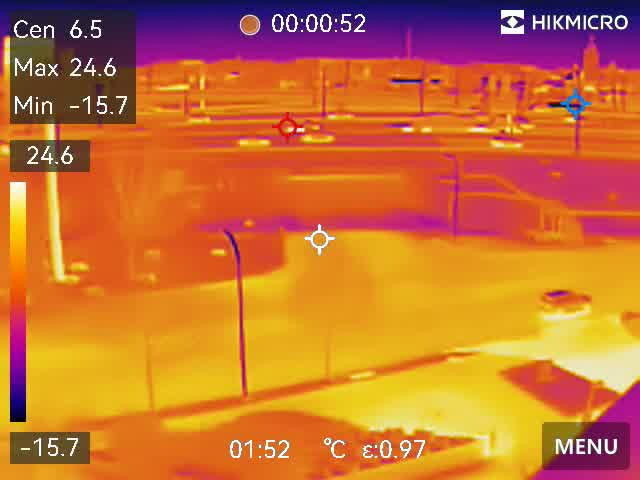largeCar: (539, 291, 597, 313)
vehicle: (235, 133, 275, 152), (294, 126, 335, 144), (486, 135, 521, 150)
